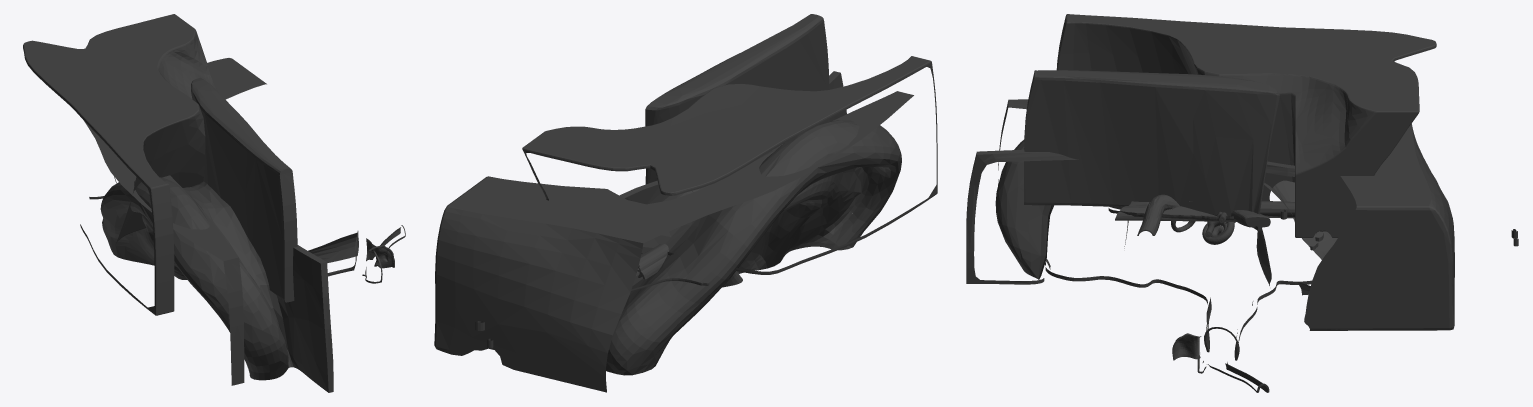
Rendered from sharedassets70.glb.
The picture shows the model from 3 angles, left to right: view 1: azimuth 30°, elevation 25°; view 2: azimuth 150°, elevation 25°; view 3: azimuth 270°, elevation 25°; orthographic projection. The views are drawn at different scales.
Visible parts, largest first — view 1: 0065_Temporal bone _cut___300777, 0062_Temporalis__300774, 0008_Auricle _external ear or pinna_, helix__, 0000_Mastoid skin__300700, 0060_Fatty tissue__300772, 0007_Auricle _external ear or pinna_, lobule_, 0001_External acoustic _auditory_ meatus__300, 0035_Middle ear chamber _tympanic cavity___30; view 2: 0060_Fatty tissue__300772, 0065_Temporal bone _cut___300777, 0008_Auricle _external ear or pinna_, helix__, 0062_Temporalis__300774, 0007_Auricle _external ear or pinna_, lobule_, 0000_Mastoid skin__300700, 0005_Auricle _external ear or pinna_, crura o, 0002_Auricle _external ear or pinna_, concha_, 0010_Auricle _external ear or pinna_, scaphoi, 0011_Auricle _external ear or pinna_, triangu, 0006_Auricle _external ear or pinna_, antihel, 0058_Internal jugular vein__300770; view 3: 0065_Temporal bone _cut___300777, 0062_Temporalis__300774, 0060_Fatty tissue__300772, 0000_Mastoid skin__300700, 0008_Auricle _external ear or pinna_, helix__, 0059_Carotid sheath__300771, 0057_Internal carotid artery__300769, 0035_Middle ear chamber _tympanic cavity___30, 0004_Auricle _external ear or pinna_, antitra, 0018_Cochlea__300724, 0061_Levator veli palatini__300773, 0001_External acoustic _auditory_ meatus__300 (+1 smaller).
Boxes of the visible parts, <box> form: 0065_Temporal bone _cut___300777: <box>23,14,217,315</box>; 0062_Temporalis__300774: <box>191,77,297,302</box>; 0008_Auricle _external ear or pinna_, helix__: <box>100,177,288,380</box>; 0000_Mastoid skin__300700: <box>183,181,333,392</box>; 0060_Fatty tissue__300772: <box>83,58,266,385</box>; 0007_Auricle _external ear or pinna_, lobule_: <box>102,218,154,265</box>; 0001_External acoustic _auditory_ meatus__300: <box>308,231,358,276</box>; 0035_Middle ear chamber _tympanic cavity___30: <box>362,238,394,283</box>; 0060_Fatty tissue__300772: <box>434,91,913,392</box>; 0065_Temporal bone _cut___300777: <box>522,56,937,291</box>; 0008_Auricle _external ear or pinna_, helix__: <box>659,120,901,303</box>; 0062_Temporalis__300774: <box>645,14,829,184</box>; 0007_Auricle _external ear or pinna_, lobule_: <box>606,267,707,375</box>; 0000_Mastoid skin__300700: <box>619,71,846,295</box>; 0005_Auricle _external ear or pinna_, crura o: <box>759,188,856,269</box>; 0002_Auricle _external ear or pinna_, concha_: <box>735,204,799,282</box>; 0010_Auricle _external ear or pinna_, scaphoi: <box>836,167,873,208</box>; 0011_Auricle _external ear or pinna_, triangu: <box>781,212,826,260</box>; 0006_Auricle _external ear or pinna_, antihel: <box>779,181,837,215</box>; 0058_Internal jugular vein__300770: <box>637,244,668,277</box>; 0065_Temporal bone _cut___300777: <box>1056,14,1436,237</box>; 0062_Temporalis__300774: <box>1024,70,1279,216</box>; 0060_Fatty tissue__300772: <box>998,99,1454,330</box>; 0000_Mastoid skin__300700: <box>966,149,1334,284</box>; 0008_Auricle _external ear or pinna_, helix__: <box>995,139,1294,278</box>; 0059_Carotid sheath__300771: <box>1115,201,1236,221</box>; 0057_Internal carotid artery__300769: <box>1137,194,1294,235</box>; 0035_Middle ear chamber _tympanic cavity___30: <box>1172,333,1227,373</box>; 0004_Auricle _external ear or pinna_, antitra: <box>1256,228,1289,298</box>; 0018_Cochlea__300724: <box>1202,221,1234,244</box>; 0061_Levator veli palatini__300773: <box>1231,210,1270,227</box>; 0001_External acoustic _auditory_ meatus__300: <box>1204,297,1257,360</box>.
Size of the model in its own units: 3.42 by 1.91 by 4.6.
Materials: 1 (1 with a texture image).
